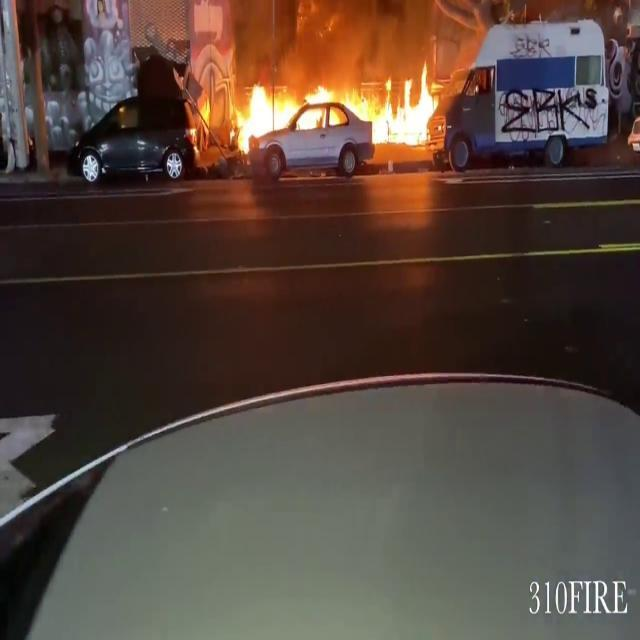Fire: (198, 60, 446, 160)
